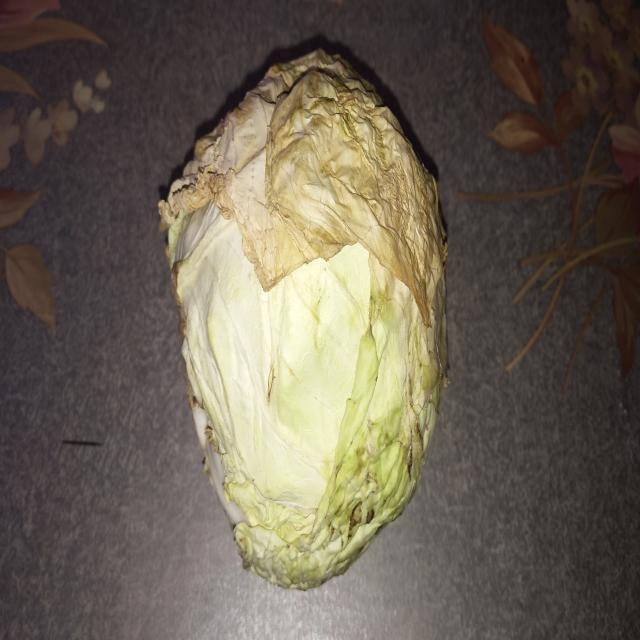cabbage: (156, 36, 452, 601)
